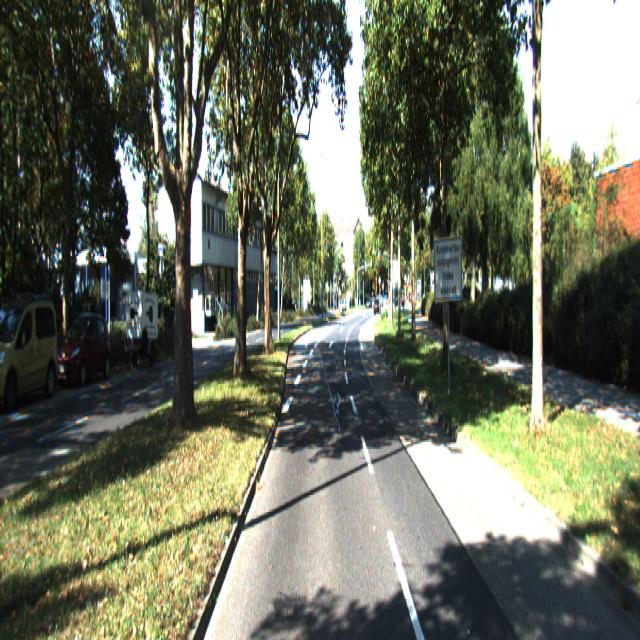Car: (0, 293, 62, 411), (56, 311, 112, 389)
DontCare: (362, 283, 382, 320)
Misc: (126, 285, 161, 367)
